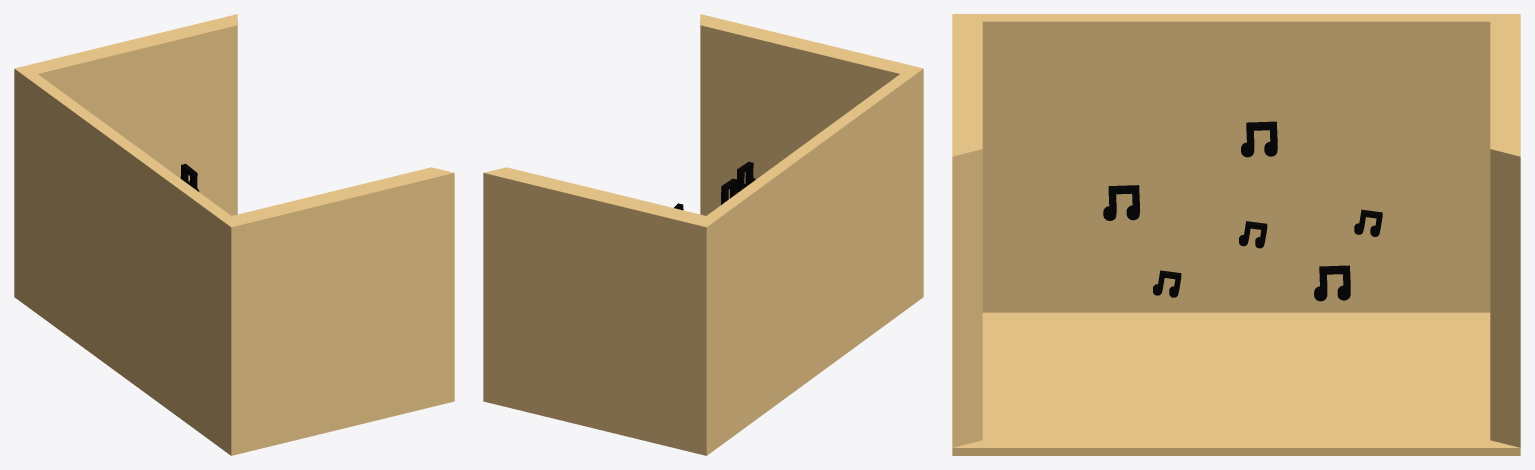
Rendered from RoomBounce.fbx.
3 views of the same model, side by side, from view 1: azimuth 30°, elevation 25°; view 2: azimuth 150°, elevation 25°; view 3: azimuth 270°, elevation 25° (orthographic). The views are drawn at different scales.
Visible parts, largest first — view 1: Cube; view 2: Cube; view 3: Cube.
Boxes of the visible parts, <box> form: Cube: <box>14,14,454,455</box>; Cube: <box>483,14,923,455</box>; Cube: <box>952,14,1520,455</box>.
Bounding box in the file's own units: 485 × 474 × 816.
